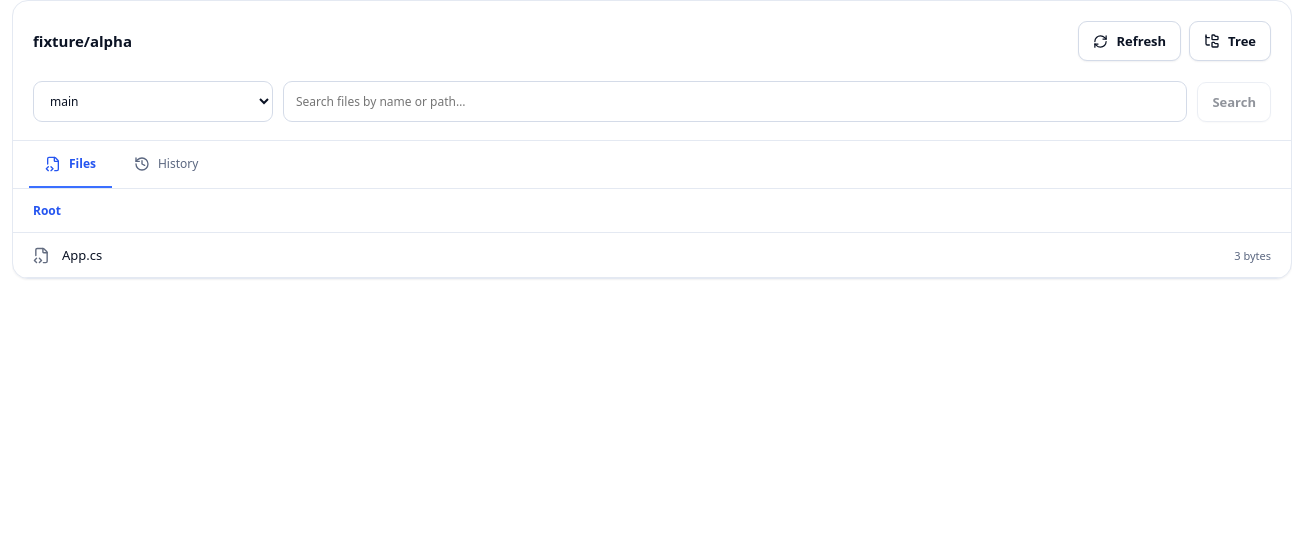
discards delayed commit responses after leaving History
The width and height of the screenshot is (1304, 542).
Check: the text "fixture/alpha" is shown, box top-left (33, 31), bottom-right (132, 51)
Step 1. Click the button "History" → (166, 164), box top-left (118, 141), bottom-right (214, 188)
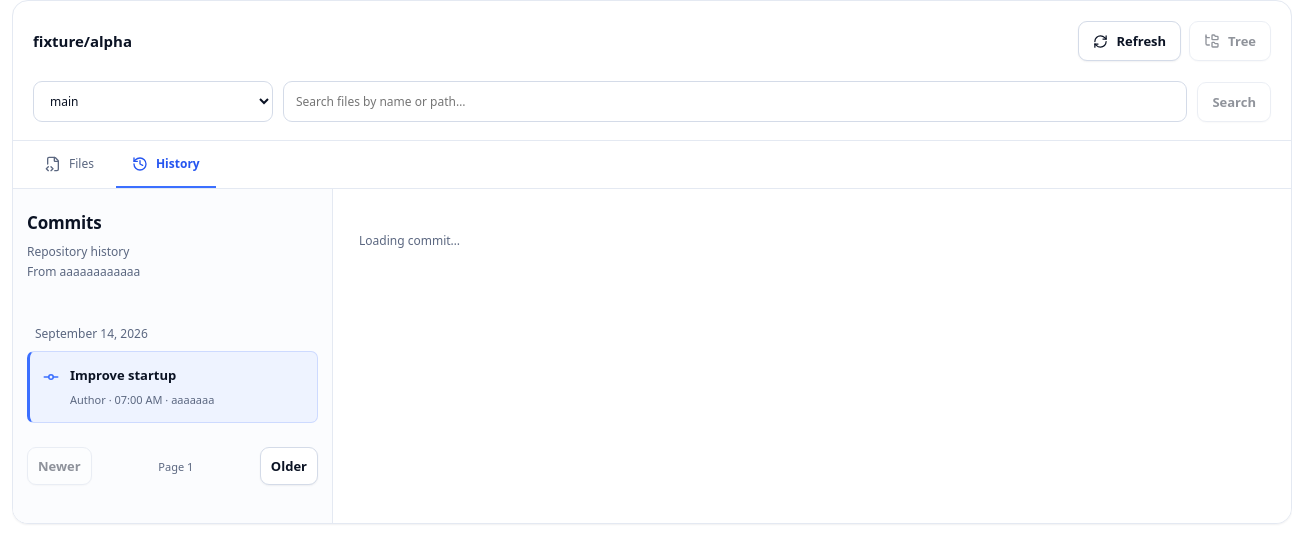
Check: the text "Loading commit…" is shown, box top-left (359, 232), bottom-right (460, 249)
Step 2. Click the button "Files" → (69, 164), box top-left (29, 141), bottom-right (110, 188)
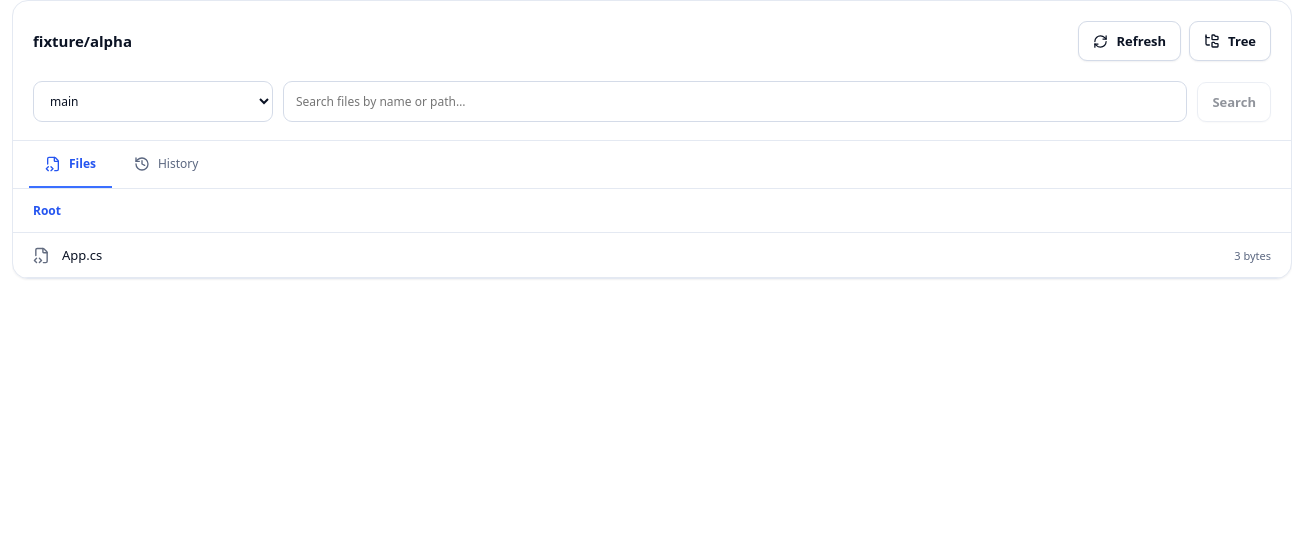
Check: the button "App.cs 3 bytes" is shown, box top-left (13, 233), bottom-right (1291, 278)
